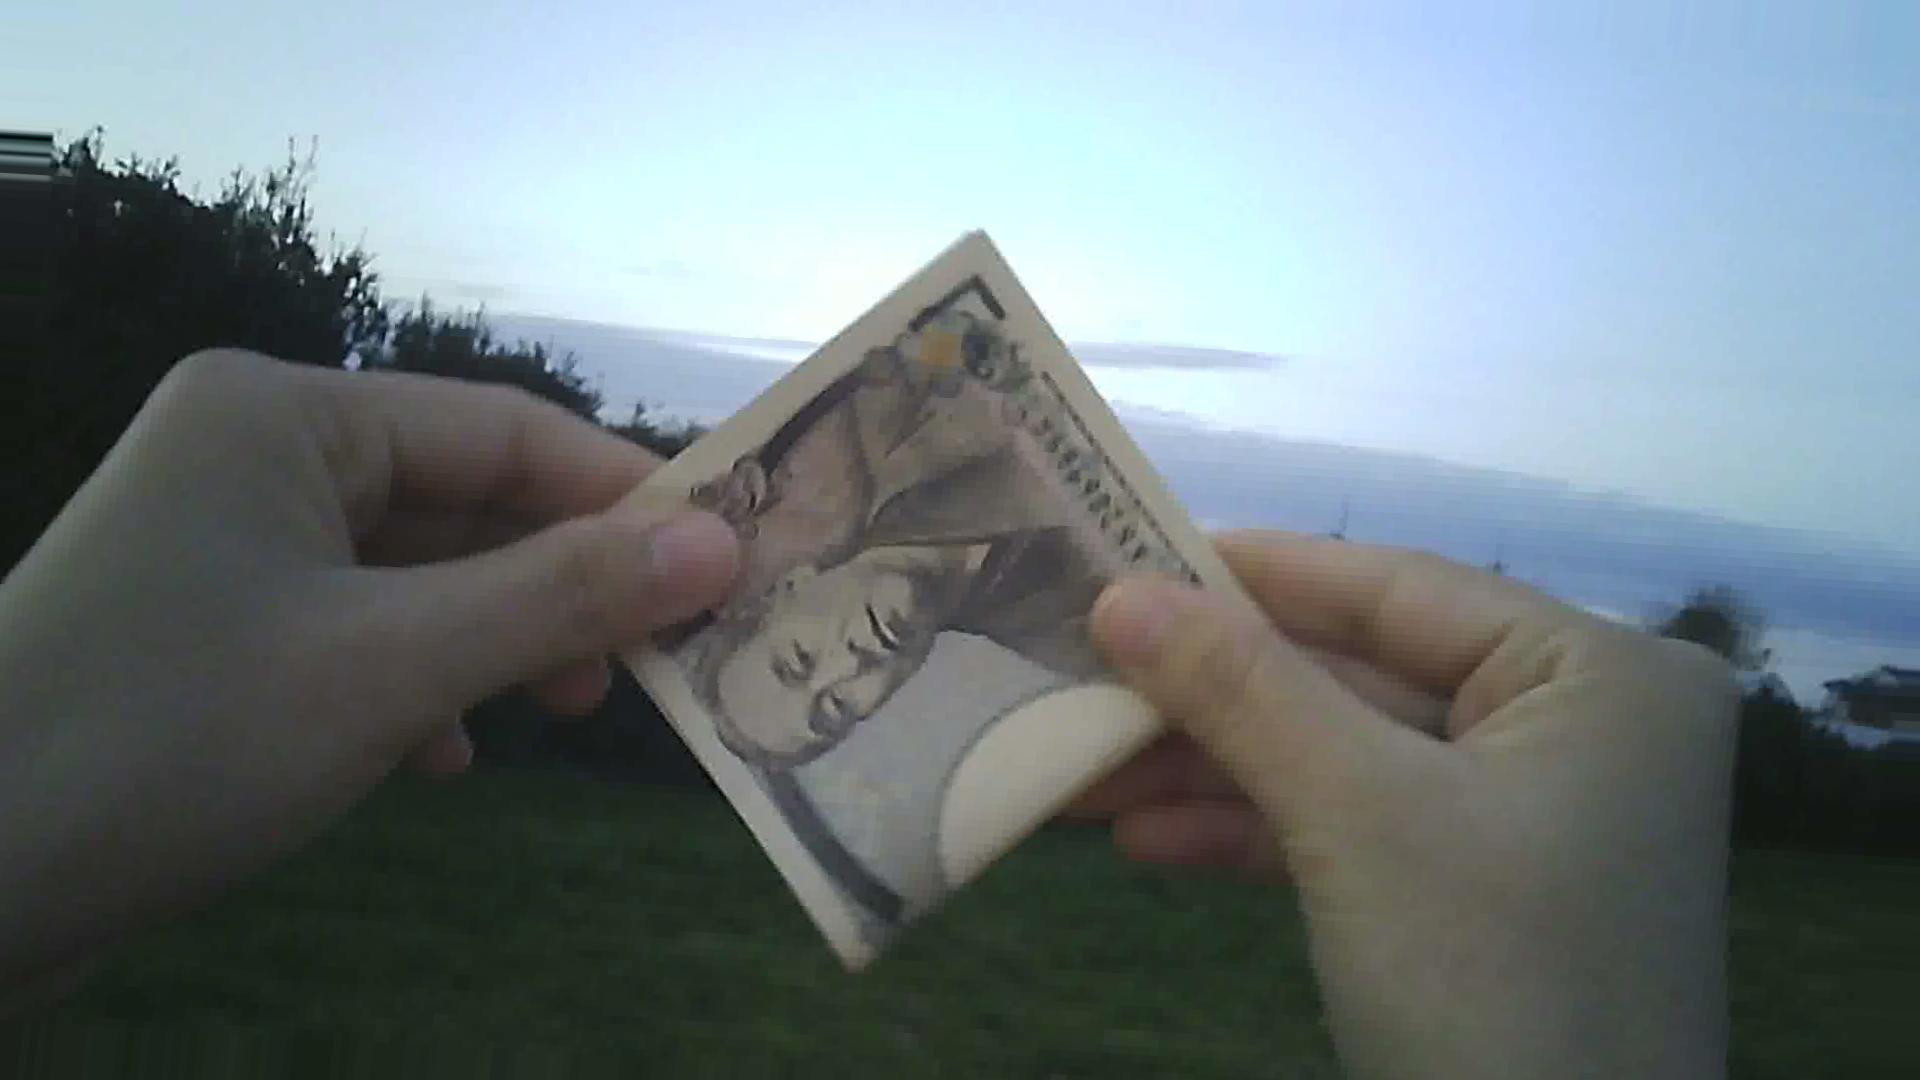10,000 Yen: (533, 243, 1273, 957)
